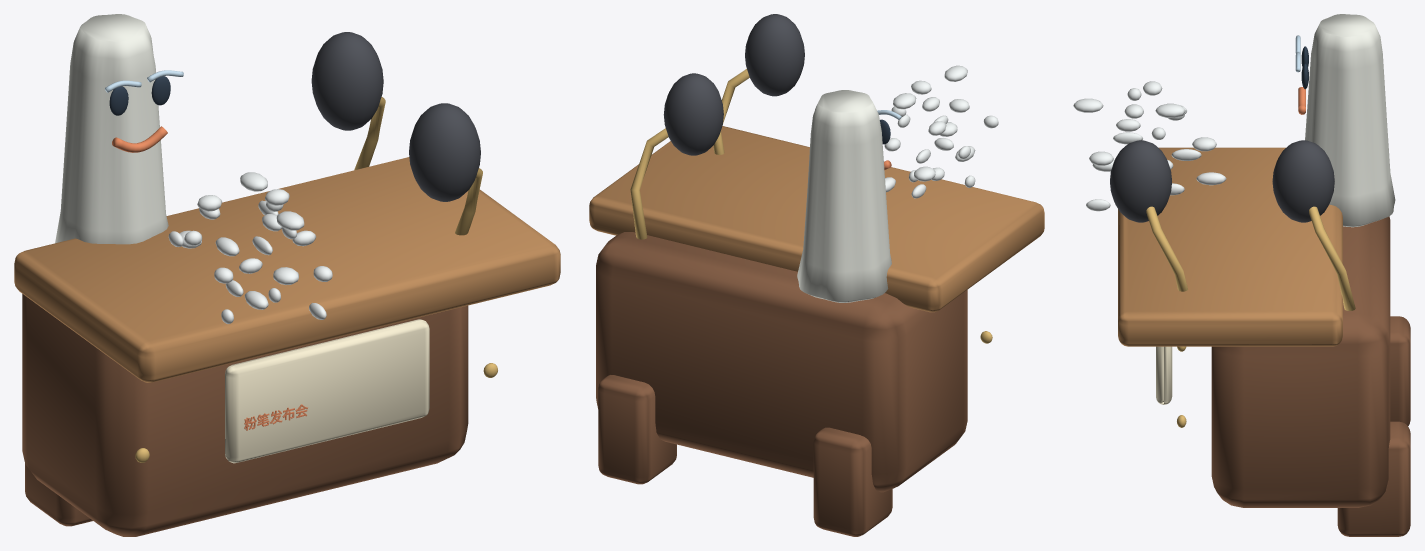
The model's file is Q05_Chalk_Press_Conference.glb.
The picture shows the model from 3 angles, left to right: view 1: azimuth 30°, elevation 25°; view 2: azimuth 150°, elevation 25°; view 3: azimuth 270°, elevation 25°; orthographic projection. The views are drawn at different scales.
Visible parts, largest first — view 1: Q05 walnut raised podium lip, Q05_PODIUM_STATIC | Old school walnut press desk, Q05 pressed paper nameplate, Q05 asymmetrical solid white chalk speaker, Q05_MICROPHONE_ACTOR | Black microphone windscreen foam, Q05_DUST_ACTOR | Fluffy airborne chalk dust clumps, Q05_MICROPHONE_ACTOR | Brass microphone and podium hinges, Q05_CHALK_ACTOR | Chalk speaker glass eyes; view 2: Q05_PODIUM_STATIC | Old school walnut press desk, Q05 walnut raised podium lip, Q05 asymmetrical solid white chalk speaker, Q05_MICROPHONE_ACTOR | Black microphone windscreen foam, Q05_DUST_ACTOR | Fluffy airborne chalk dust clumps, Q05_MICROPHONE_ACTOR | Brass microphone and podium hinges; view 3: Q05_PODIUM_STATIC | Old school walnut press desk, Q05 walnut raised podium lip, Q05 asymmetrical solid white chalk speaker, Q05_MICROPHONE_ACTOR | Black microphone windscreen foam, Q05_DUST_ACTOR | Fluffy airborne chalk dust clumps, Q05_MICROPHONE_ACTOR | Brass microphone and podium hinges, Q05 pressed paper nameplate.
Boxes of the visible parts, left/top/right/bottom form: Q05 walnut raised podium lip: left=14, top=157, right=560, bottom=382; Q05_PODIUM_STATIC | Old school walnut press desk: left=22, top=294, right=468, bottom=536; Q05 pressed paper nameplate: left=225, top=319, right=429, bottom=463; Q05 asymmetrical solid white chalk speaker: left=55, top=14, right=168, bottom=244; Q05_MICROPHONE_ACTOR | Black microphone windscreen foam: left=311, top=32, right=480, bottom=201; Q05_DUST_ACTOR | Fluffy airborne chalk dust clumps: left=168, top=172, right=332, bottom=323; Q05_MICROPHONE_ACTOR | Brass microphone and podium hinges: left=354, top=97, right=482, bottom=235; Q05_CHALK_ACTOR | Chalk speaker glass eyes: left=109, top=76, right=170, bottom=115; Q05_PODIUM_STATIC | Old school walnut press desk: left=596, top=232, right=967, bottom=536; Q05 walnut raised podium lip: left=589, top=126, right=1044, bottom=312; Q05 asymmetrical solid white chalk speaker: left=797, top=90, right=891, bottom=302; Q05_MICROPHONE_ACTOR | Black microphone windscreen foam: left=663, top=14, right=804, bottom=155; Q05_DUST_ACTOR | Fluffy airborne chalk dust clumps: left=884, top=65, right=998, bottom=198; Q05_MICROPHONE_ACTOR | Brass microphone and podium hinges: left=630, top=69, right=749, bottom=239; Q05_PODIUM_STATIC | Old school walnut press desk: left=1211, top=216, right=1410, bottom=536; Q05 walnut raised podium lip: left=1118, top=147, right=1342, bottom=346; Q05 asymmetrical solid white chalk speaker: left=1305, top=14, right=1395, bottom=227; Q05_MICROPHONE_ACTOR | Black microphone windscreen foam: left=1110, top=140, right=1334, bottom=222; Q05_DUST_ACTOR | Fluffy airborne chalk dust clumps: left=1073, top=81, right=1226, bottom=211; Q05_MICROPHONE_ACTOR | Brass microphone and podium hinges: left=1146, top=206, right=1355, bottom=310; Q05 pressed paper nameplate: left=1156, top=346, right=1172, bottom=404.
Size of the model in its own units: 1.5 by 1.66 by 1.24.
